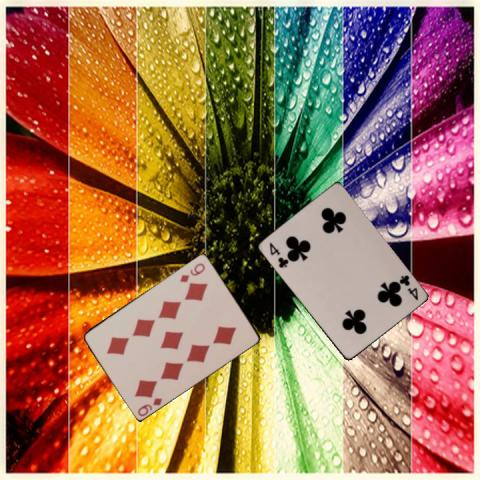4c: (266, 239, 289, 270), (396, 272, 419, 302)
9d: (176, 260, 206, 284), (135, 395, 164, 417)
